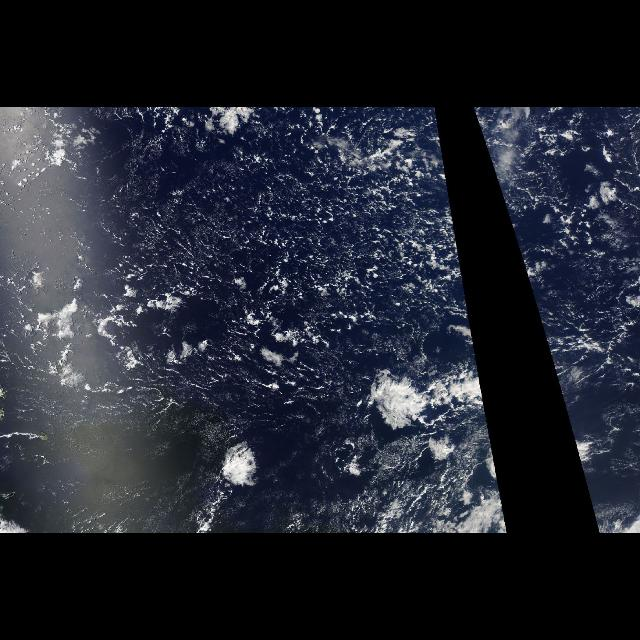Gravel: (173, 165, 433, 378)
Sugar: (90, 157, 406, 300)
